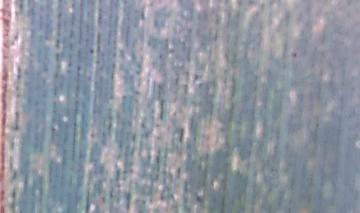tarspot: (86, 48, 97, 54), (291, 50, 298, 59), (52, 125, 58, 133)
